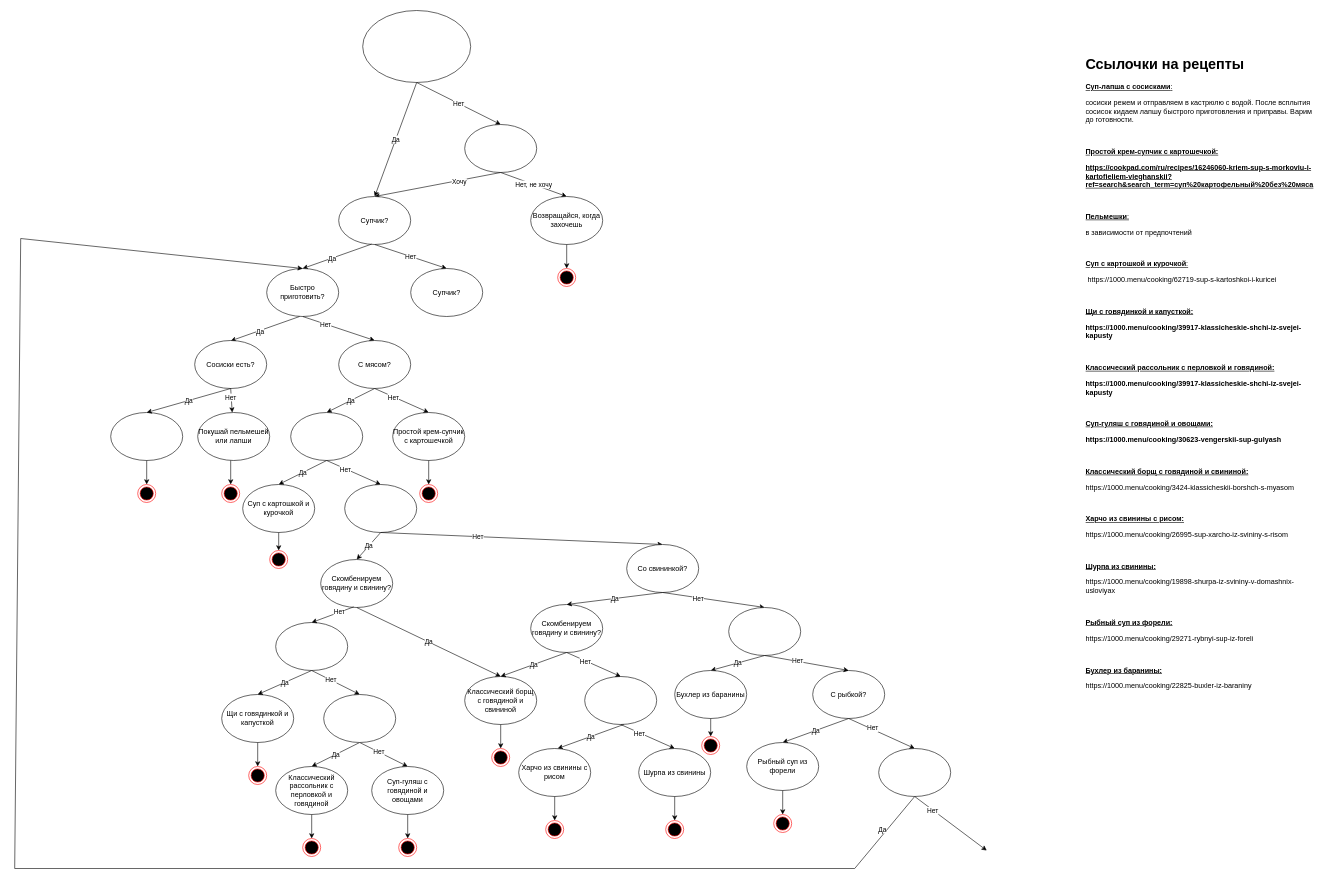
This 1333x884 diagram has some shape labels left out. The box of each missing label's shape, as (x1, y1, x2, y2) in pixels:
А перловка?: (323, 694, 396, 742)
Есть рис?: (584, 676, 657, 724)
Капуста имеется?: (275, 622, 348, 670)
С бараниной?: (728, 607, 801, 656)
С говядинкой?: (344, 484, 417, 532)
С курочкой?: (290, 412, 363, 460)
Суп-лапша с сосисками: (110, 412, 183, 460)
Точно не хочешь кушать?: (464, 124, 537, 172)
ТОЧНО суп?: (878, 748, 951, 796)
Хочешь кушать?: (362, 10, 471, 82)
